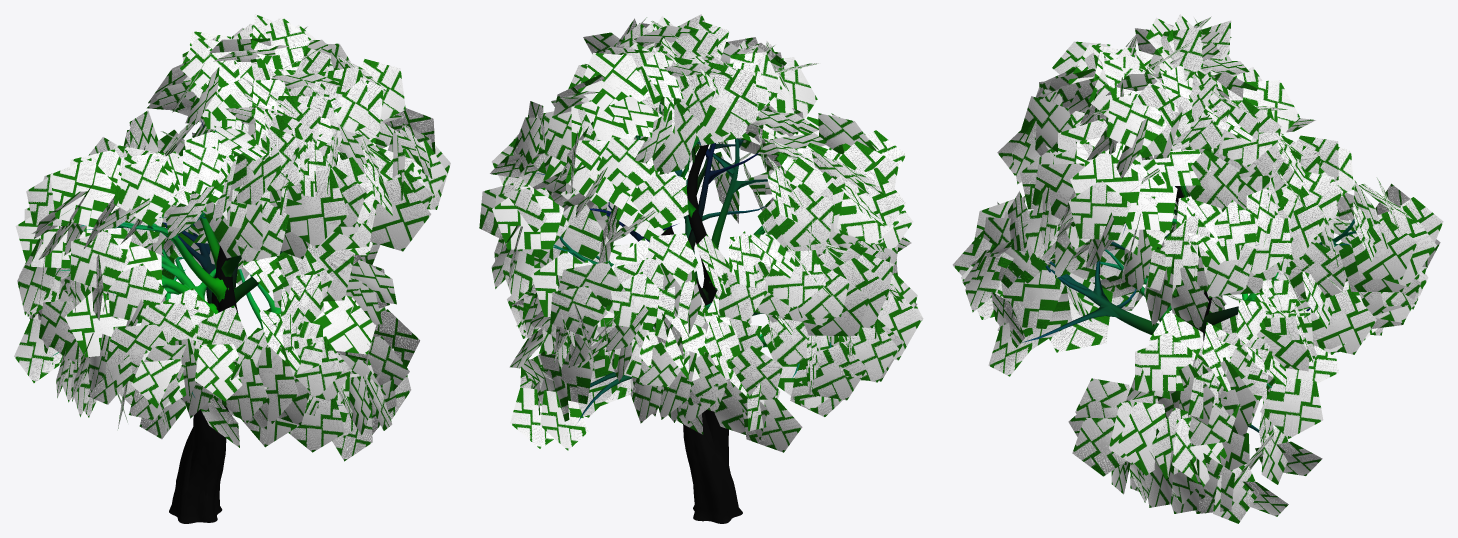
File: Tree1.fbx
The picture shows the model from 3 angles, left to right: view 1: azimuth 30°, elevation 25°; view 2: azimuth 150°, elevation 25°; view 3: azimuth 270°, elevation 25°; orthographic projection. The views are drawn at different scales.
Visible parts, largest first — view 1: Tree_1, Tree_0; view 2: Tree_1, Tree_0; view 3: Tree_1, Tree_0.
Part boxes in pixels (x1,y1,x2,y2): Tree_1: (14, 14, 450, 461); Tree_0: (51, 119, 342, 523); Tree_1: (479, 14, 923, 452); Tree_0: (533, 102, 831, 523); Tree_1: (952, 14, 1443, 523); Tree_0: (1014, 153, 1356, 432).
Bounding box in the file's own units: 424 × 476 × 426.
